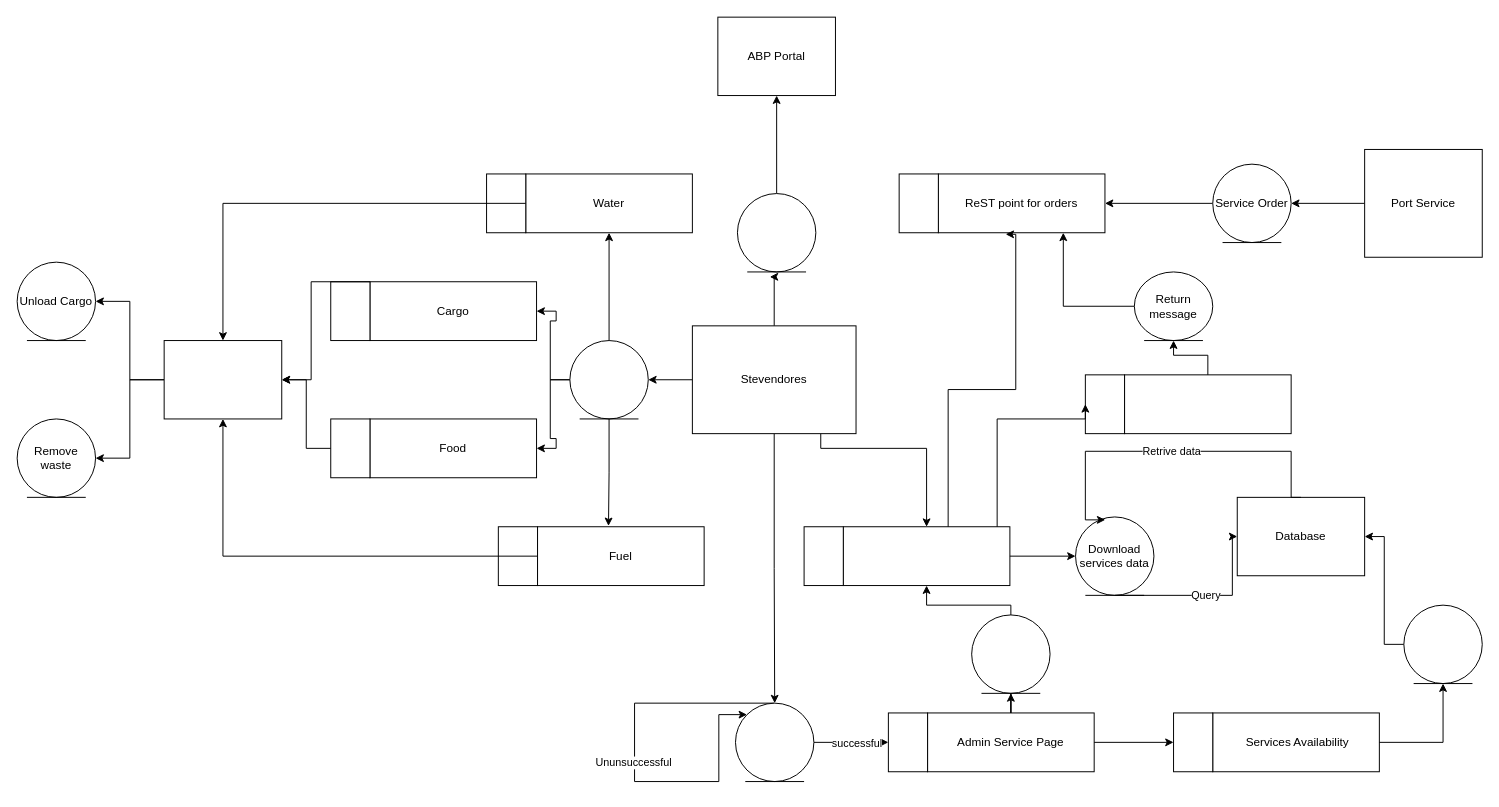
The diagram is 1499 pixels wide and 807 high, and some of its shapes have lost their labels. Here are the shapes that lost their labels. From the top down, the box of each, then its label:
(736, 193, 816, 272): Find location and berth
(163, 340, 282, 419): Ship
(569, 340, 648, 419): Provide Service
(1124, 374, 1291, 434): Booking schedule
(842, 526, 1010, 586): System
(971, 614, 1050, 693): Check Service Availability
(1403, 604, 1482, 684): Update Services
(735, 702, 814, 782): Login
